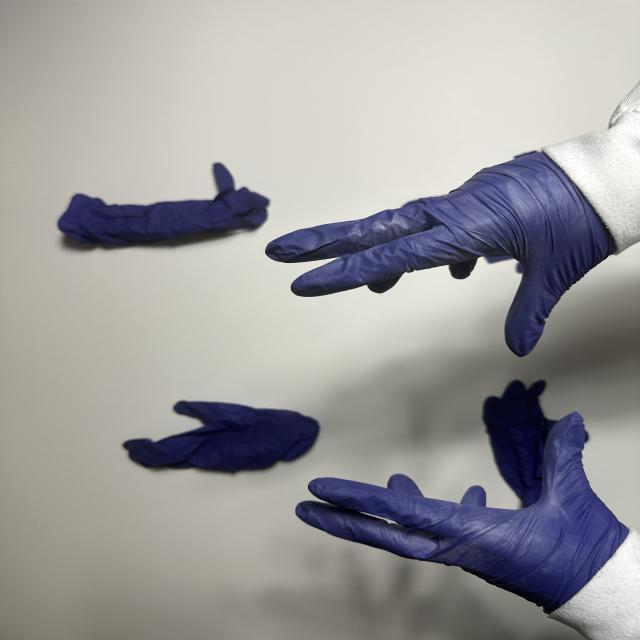gloves_contaminated: (266, 152, 614, 356), (296, 413, 628, 612)
